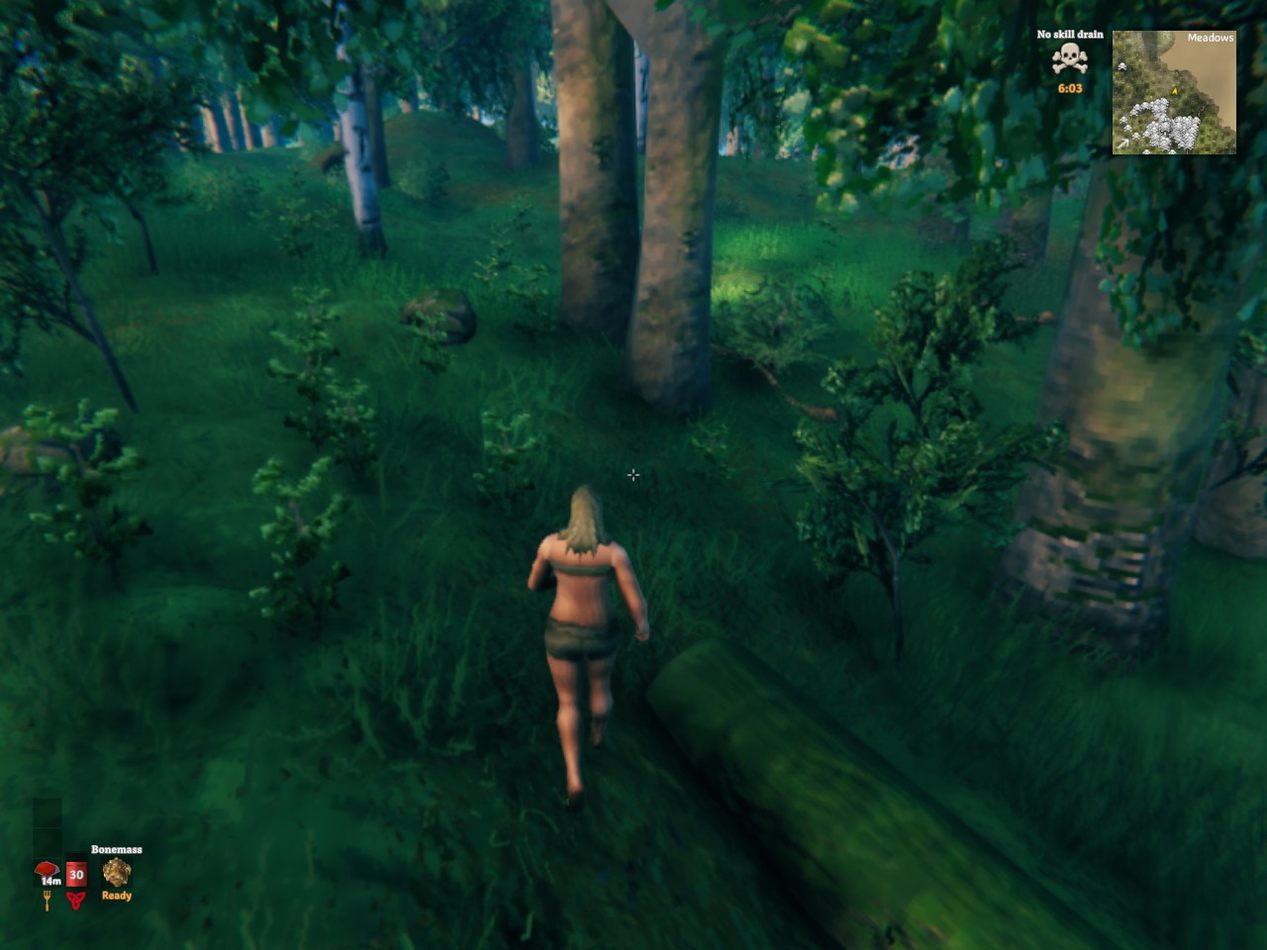Branch: (711, 343, 838, 421)
